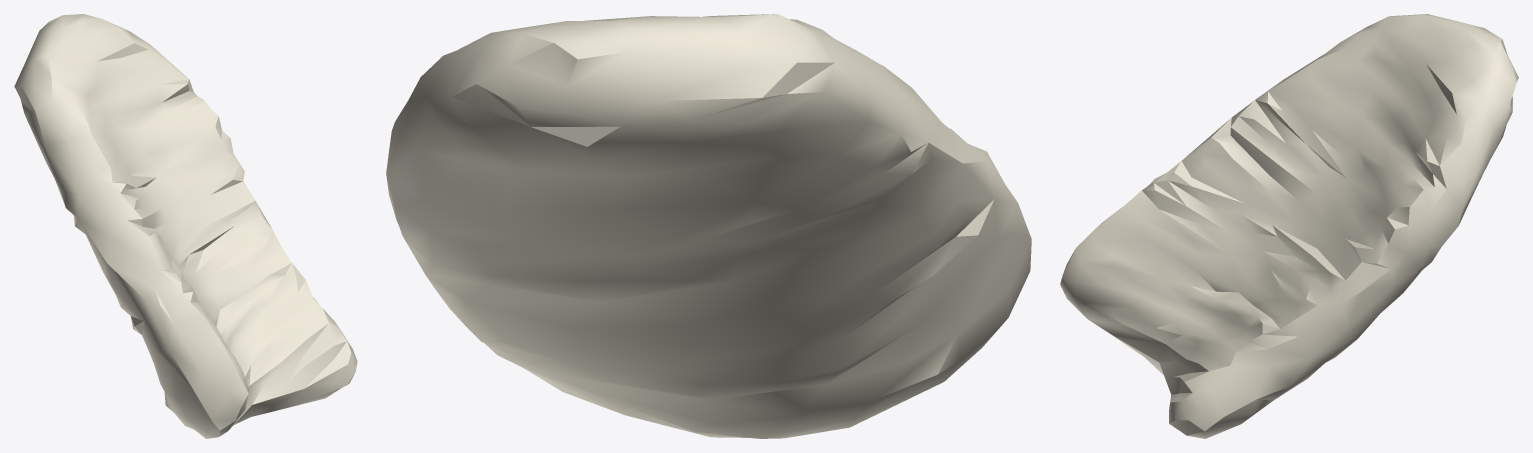
File: fma44451_mm1374.glb
3 renders of one model, left to right at view 1: azimuth 30°, elevation 25°; view 2: azimuth 150°, elevation 25°; view 3: azimuth 270°, elevation 25°, orthographic. The views are drawn at different scales.
Visible parts, largest first — view 1: FMA44451_MM1374; view 2: FMA44451_MM1374; view 3: FMA44451_MM1374.
Part boxes in pixels (x1,y1,x2,y2): FMA44451_MM1374: (14, 14, 357, 438); FMA44451_MM1374: (386, 14, 1031, 438); FMA44451_MM1374: (1060, 14, 1518, 438).
Bounding box in the file's own units: 0.00755 × 0.00927 × 0.0114.
